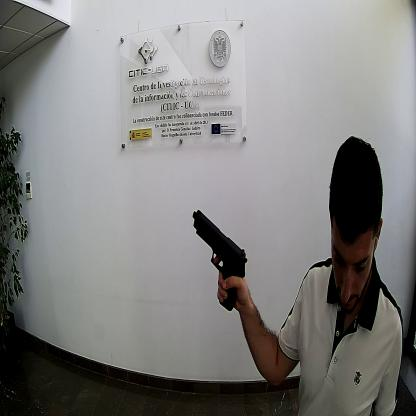pistol: (191, 209, 248, 312)
